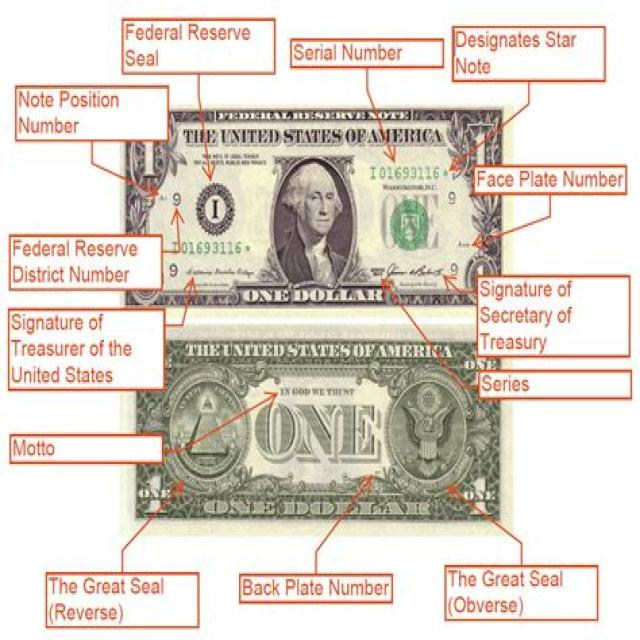One: (119, 99, 517, 320), (116, 325, 516, 535)
